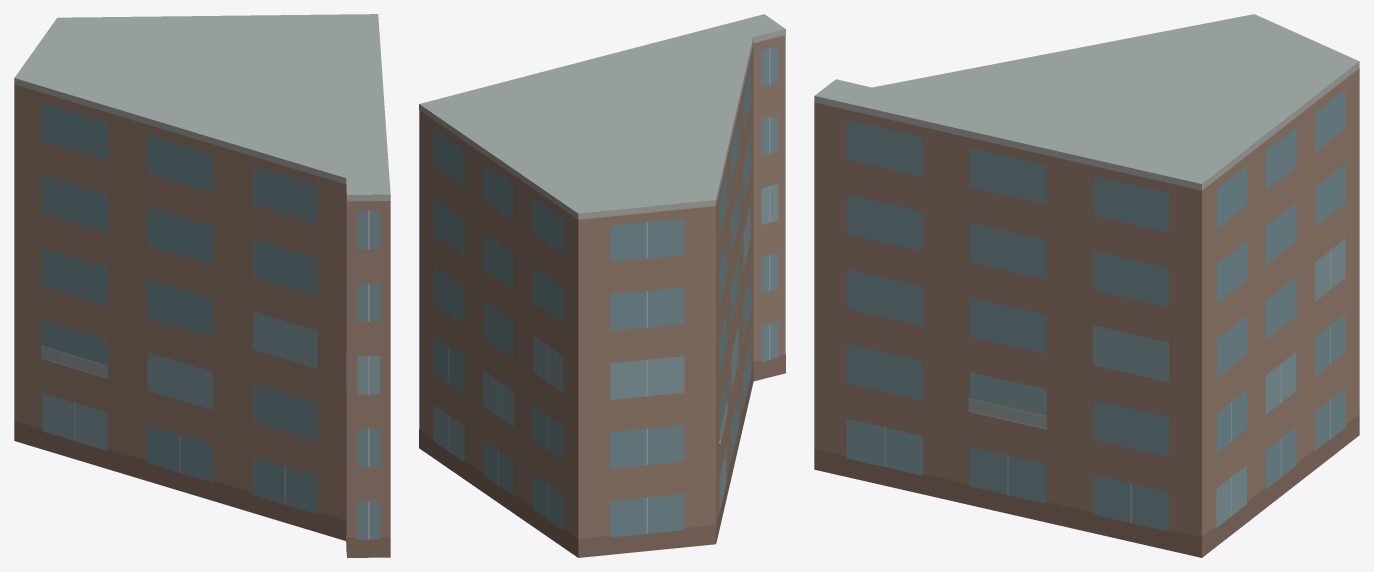
The model's file is survey-upis-32719204.glb.
3 renders of one model, left to right at view 1: azimuth 30°, elevation 25°; view 2: azimuth 150°, elevation 25°; view 3: azimuth 270°, elevation 25°, orthographic. The views are drawn at different scales.
Visible parts, largest first — view 1: survey-upis-32719204.tmp; view 2: survey-upis-32719204.tmp; view 3: survey-upis-32719204.tmp.
Part boxes in pixels (bbox=[...]): survey-upis-32719204.tmp: bbox=[14, 14, 390, 557]; survey-upis-32719204.tmp: bbox=[419, 14, 785, 557]; survey-upis-32719204.tmp: bbox=[814, 14, 1359, 557].
Size of the model in its own units: 13.58 by 13.9 by 18.39.
